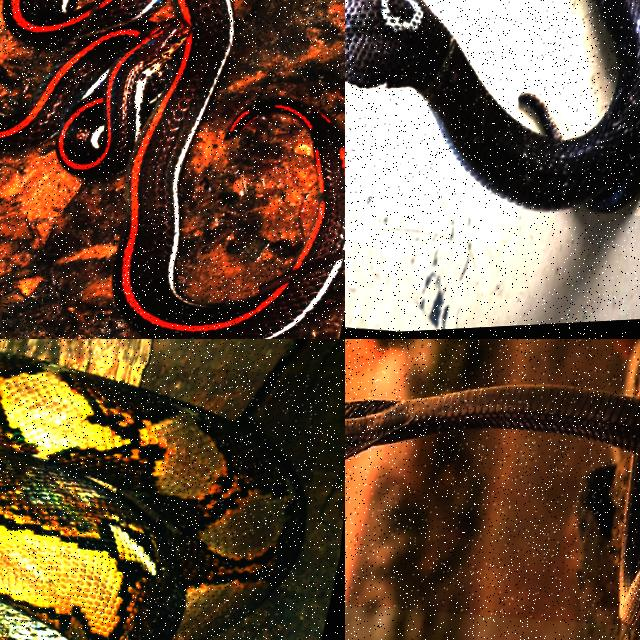Calliophis intestinalis: (0, 0, 344, 338)
Malayopython reticulatus: (0, 353, 302, 639)
Naja kaouthia: (345, 0, 639, 212)
Ophiophagus hannah: (345, 385, 639, 627)
